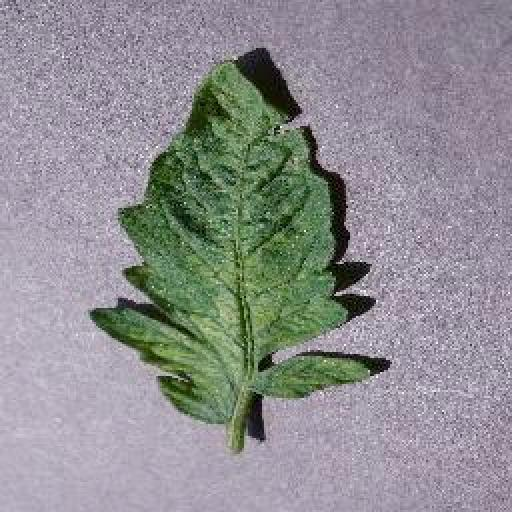Mosaic Virus: (82, 52, 378, 426)
